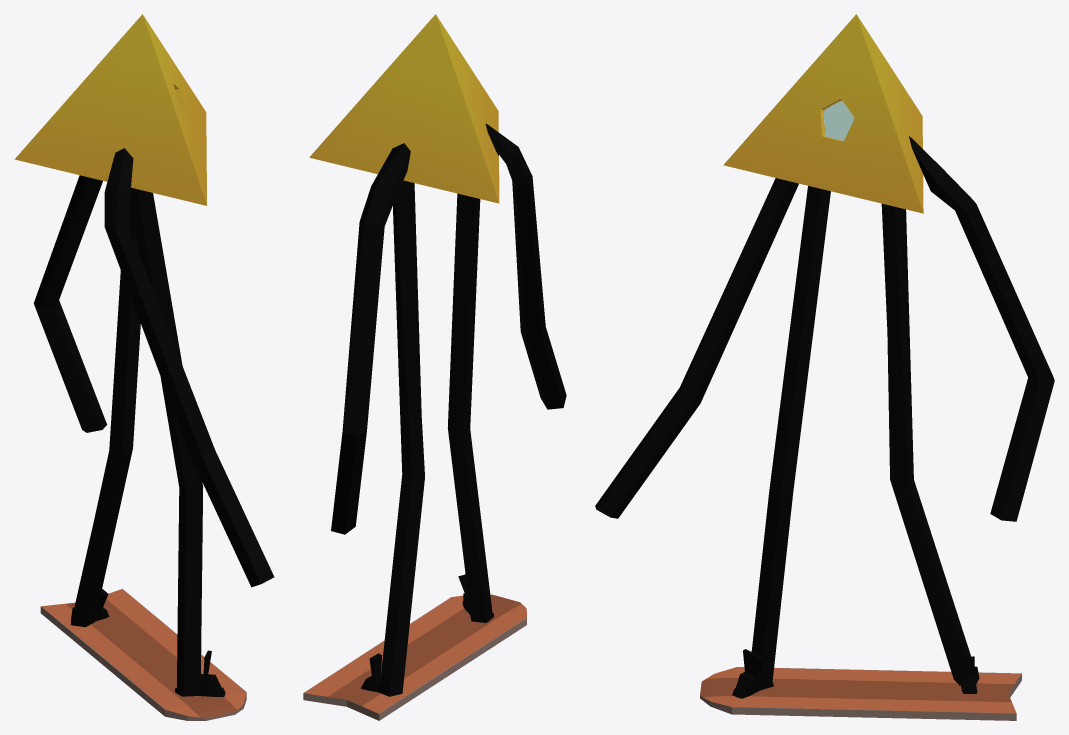
The model's file is shredgodpose.fbx.
3 views of the same model, side by side, from view 1: azimuth 30°, elevation 25°; view 2: azimuth 150°, elevation 25°; view 3: azimuth 270°, elevation 25° (orthographic). The views are drawn at different scales.
Visible parts, largest first — view 1: Cone, Cube; view 2: Cone, Cube; view 3: Cone, Cube.
Boxes of the visible parts, x1,y1,x2,y2 form: Cone: (14,14,274,696); Cube: (40,589,246,720); Cone: (309,14,566,696); Cube: (303,594,526,720); Cone: (595,14,1054,698); Cube: (700,667,1021,720).
Size of the model in its own units: 1.09 by 3.54 by 2.17.
